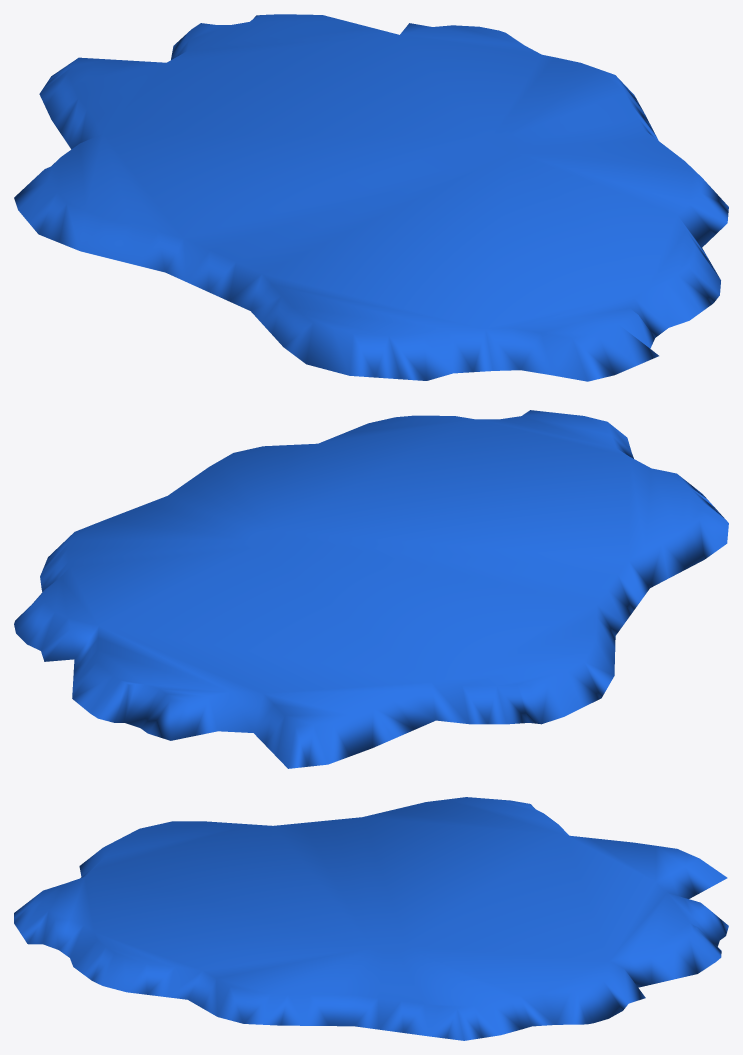
Rendered from PaintStain.fbx.
The picture shows the model from 3 angles, top to bottom: view 1: azimuth 30°, elevation 25°; view 2: azimuth 150°, elevation 25°; view 3: azimuth 270°, elevation 25°; orthographic projection. The views are drawn at different scales.
Parts seen in each view (by area): view 1: PaintStain; view 2: PaintStain; view 3: PaintStain.
Boxes of the visible parts, x1=… form: PaintStain: x1=14, y1=14, x2=728, y2=381; PaintStain: x1=14, y1=410, x2=728, y2=768; PaintStain: x1=14, y1=797, x2=728, y2=1040.
Bounding box in the file's own units: 25.56 × 1.21 × 33.62.
